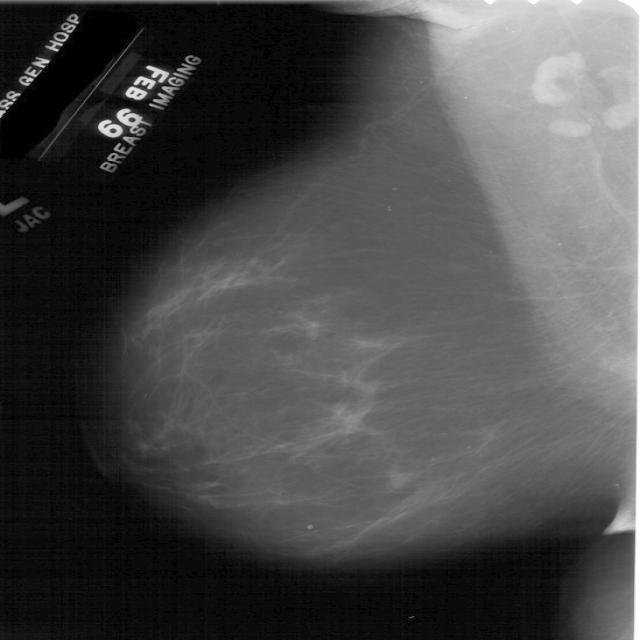tumour: (385, 466, 415, 489)
